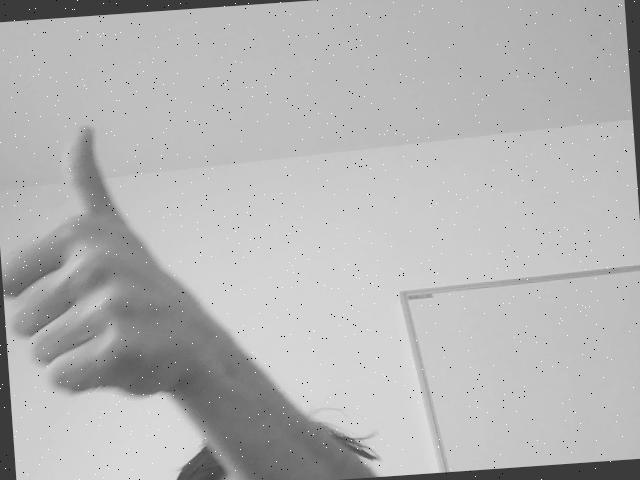good: (1, 120, 225, 407)
